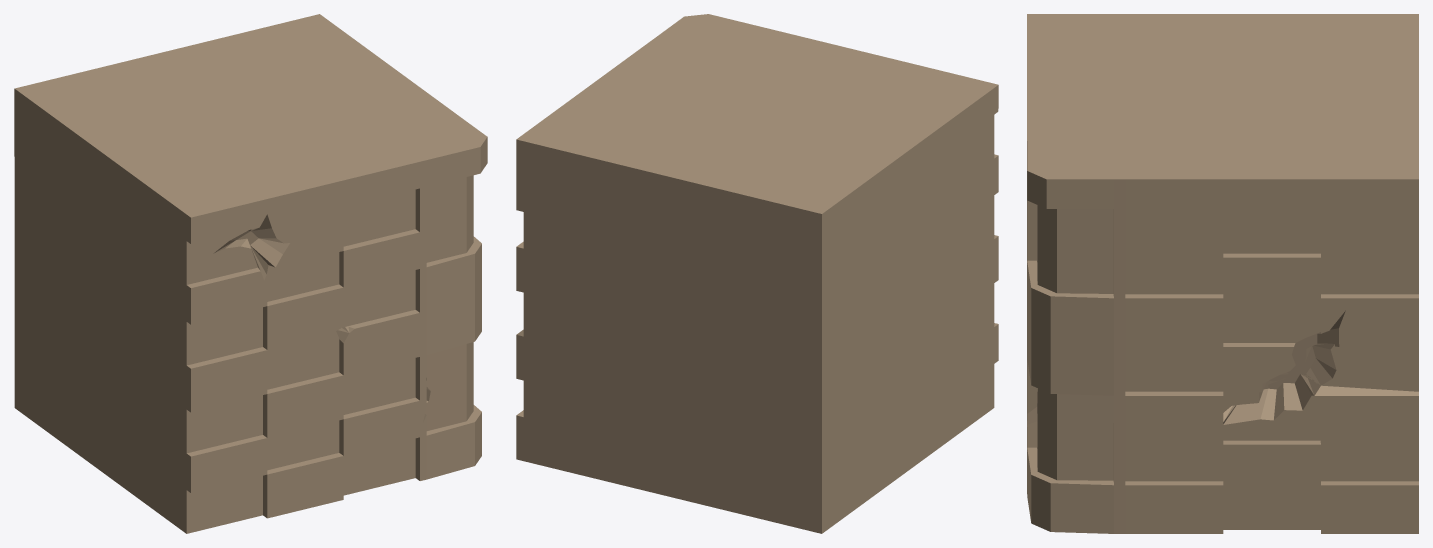
The model's file is cornerBlock_broken1_5.4..fbx.
The picture shows the model from 3 angles, left to right: view 1: azimuth 30°, elevation 25°; view 2: azimuth 150°, elevation 25°; view 3: azimuth 270°, elevation 25°; orthographic projection. The views are drawn at different scales.
Parts seen in each view (by area): view 1: cornerBlock_broken1; view 2: cornerBlock_broken1; view 3: cornerBlock_broken1.
Part boxes in pixels (x1=…): cornerBlock_broken1: x1=14, y1=14, x2=487, y2=533; cornerBlock_broken1: x1=516, y1=14, x2=998, y2=533; cornerBlock_broken1: x1=1027, y1=14, x2=1418, y2=533.
Bounding box in the file's own units: 400 × 400 × 400.
